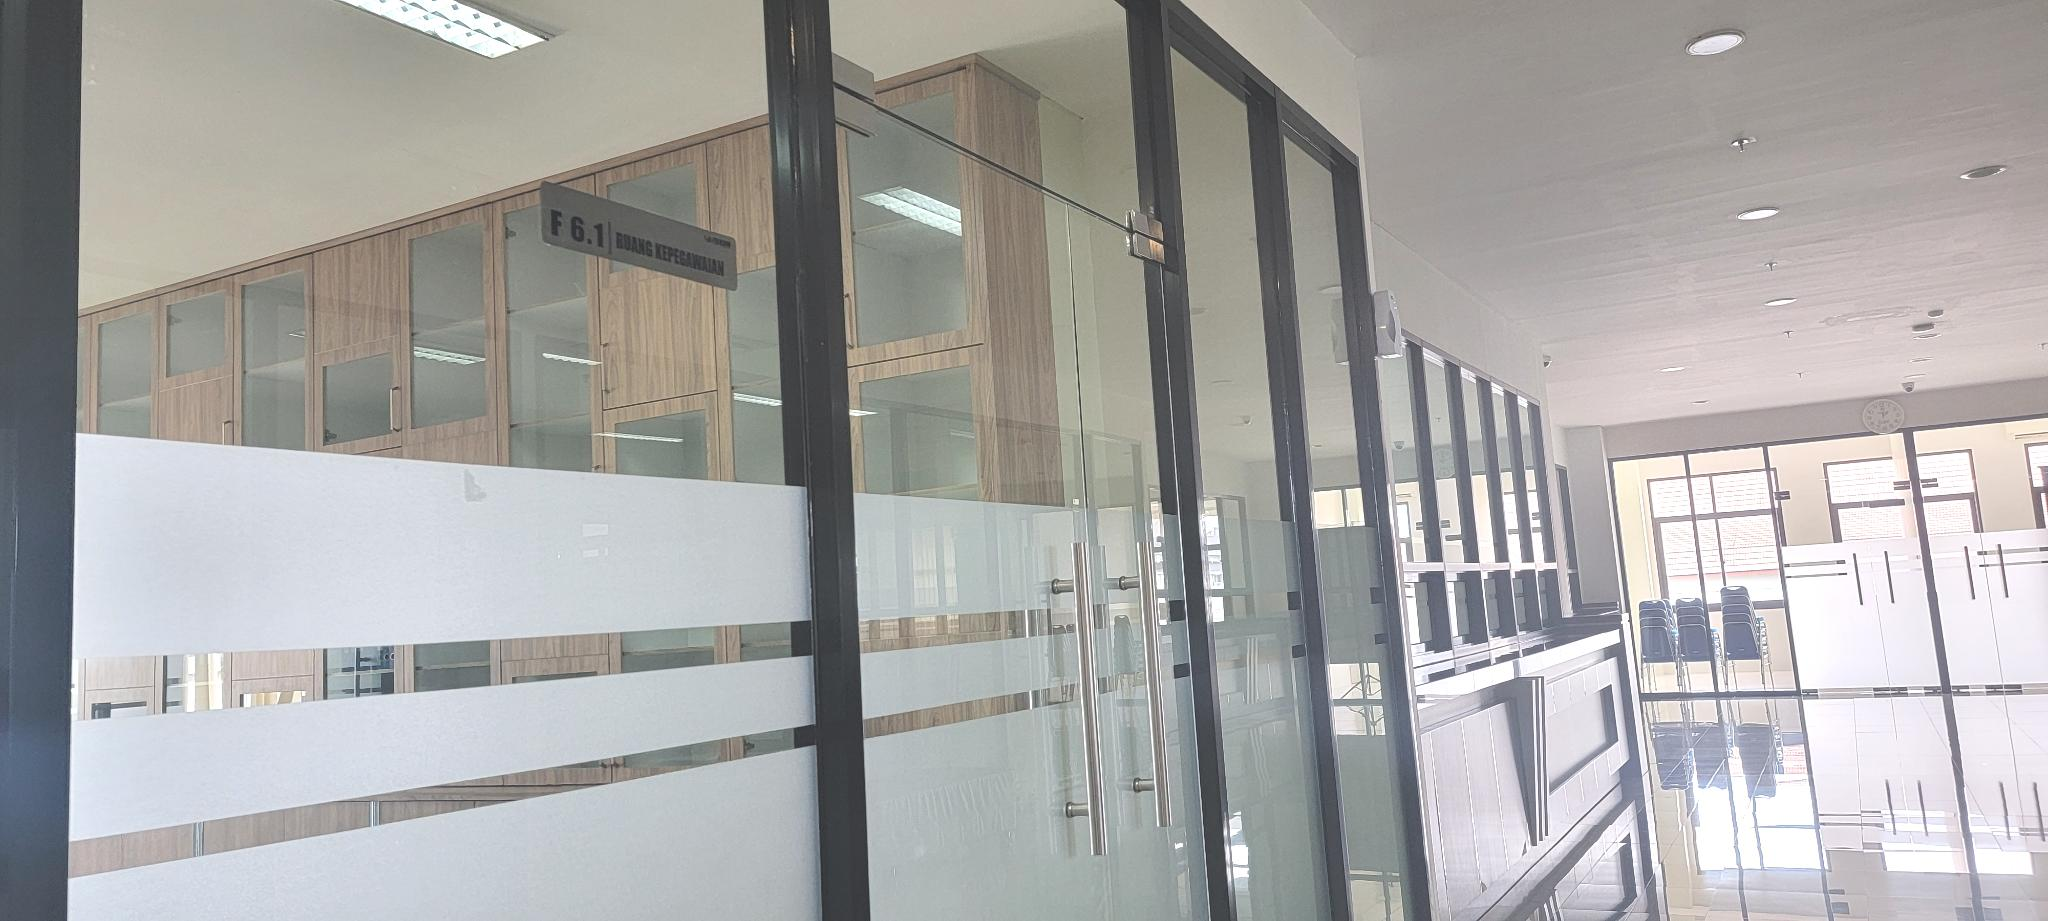plate: (539, 179, 738, 293)
